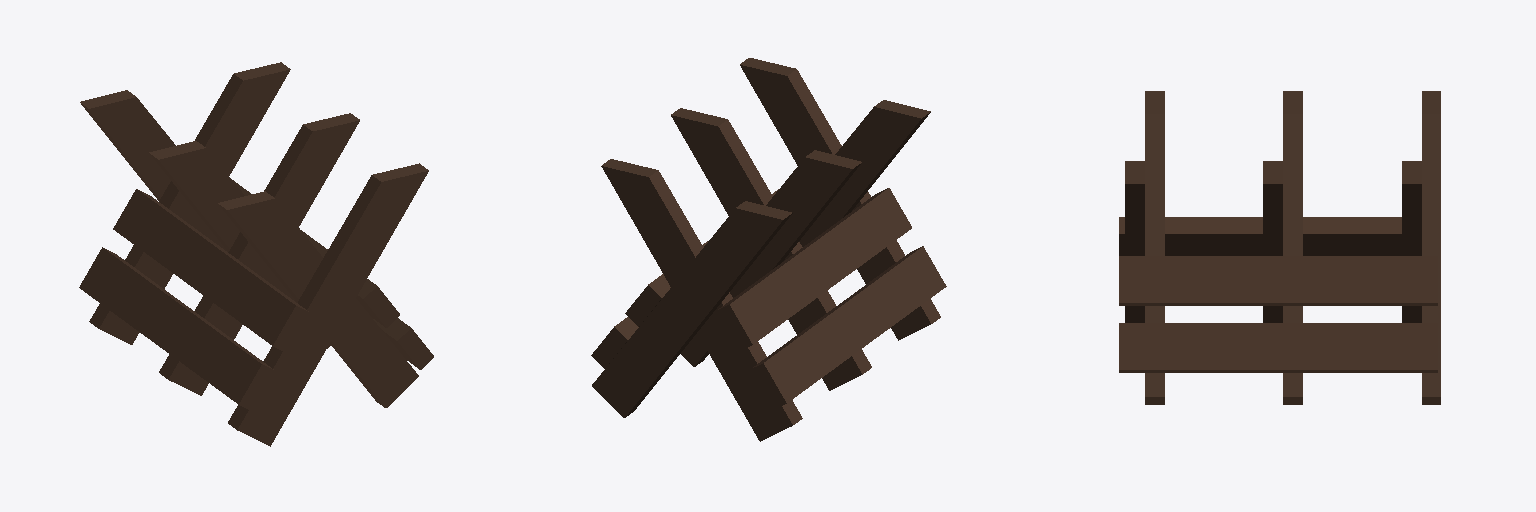
File: ski_holder.obj
The picture shows the model from 3 angles: view 1: azimuth 30°, elevation 25°; view 2: azimuth 150°, elevation 25°; view 3: azimuth 270°, elevation 25°; orthographic projection.
Visible parts, largest first — view 1: SM_Logging_Horse; view 2: SM_Logging_Horse; view 3: SM_Logging_Horse.
Boxes of the visible parts, <box> form: SM_Logging_Horse: <box>79,62,433,446</box>; SM_Logging_Horse: <box>591,58,946,441</box>; SM_Logging_Horse: <box>1119,91,1440,404</box>.
Size of the model in its own units: 0.9635 by 1.12 by 1.37.